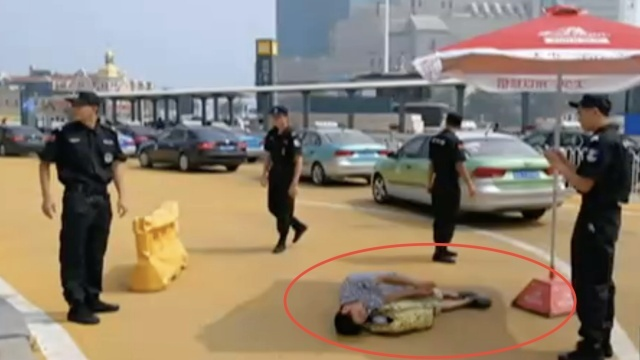falling: (324, 266, 500, 344)
